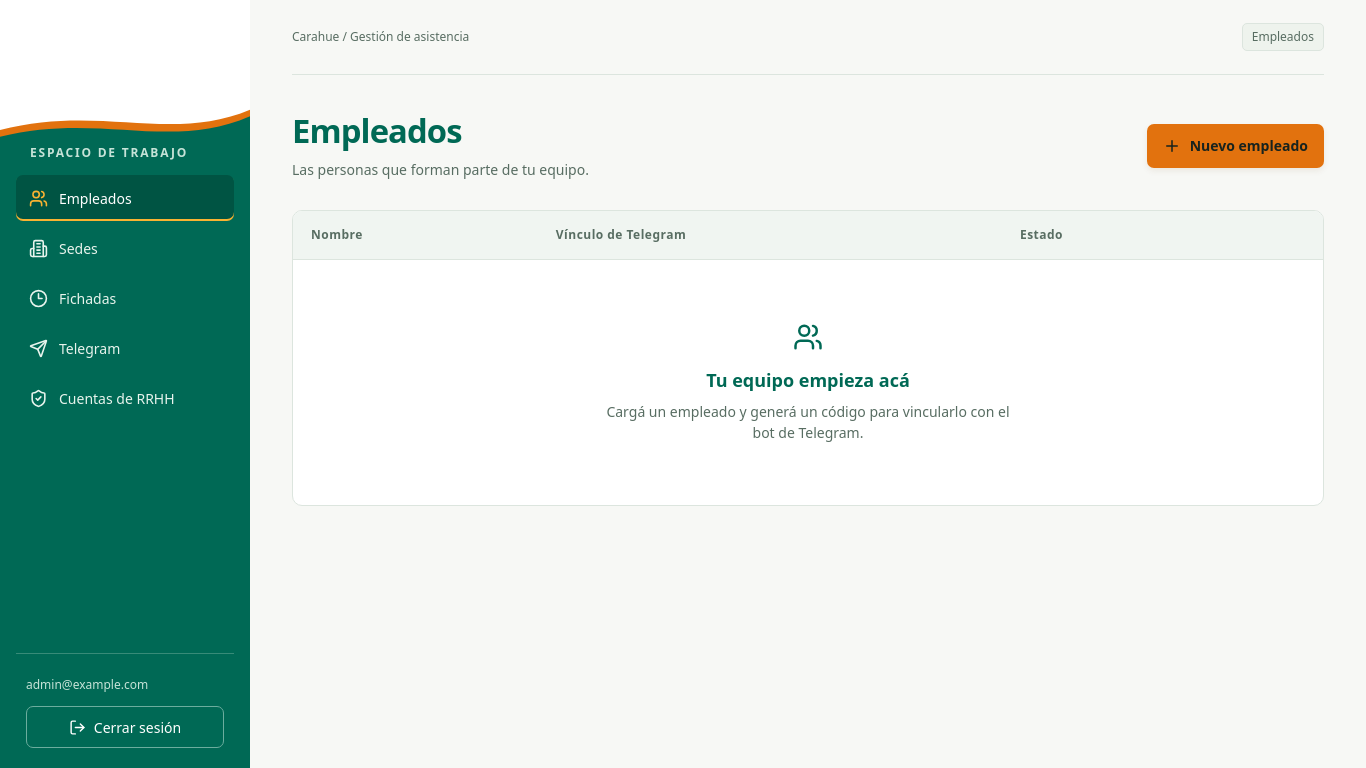
Test: shows the five administrative sections and saves an employee without a phone
Expected: the number of links is 5, [16,175,234,221]; [29,239,98,258]; [29,289,116,308]; [29,339,120,358]; [29,389,175,408]
Click the button "Nuevo empleado": coordinates (1235, 146) [1147,124,1324,168]
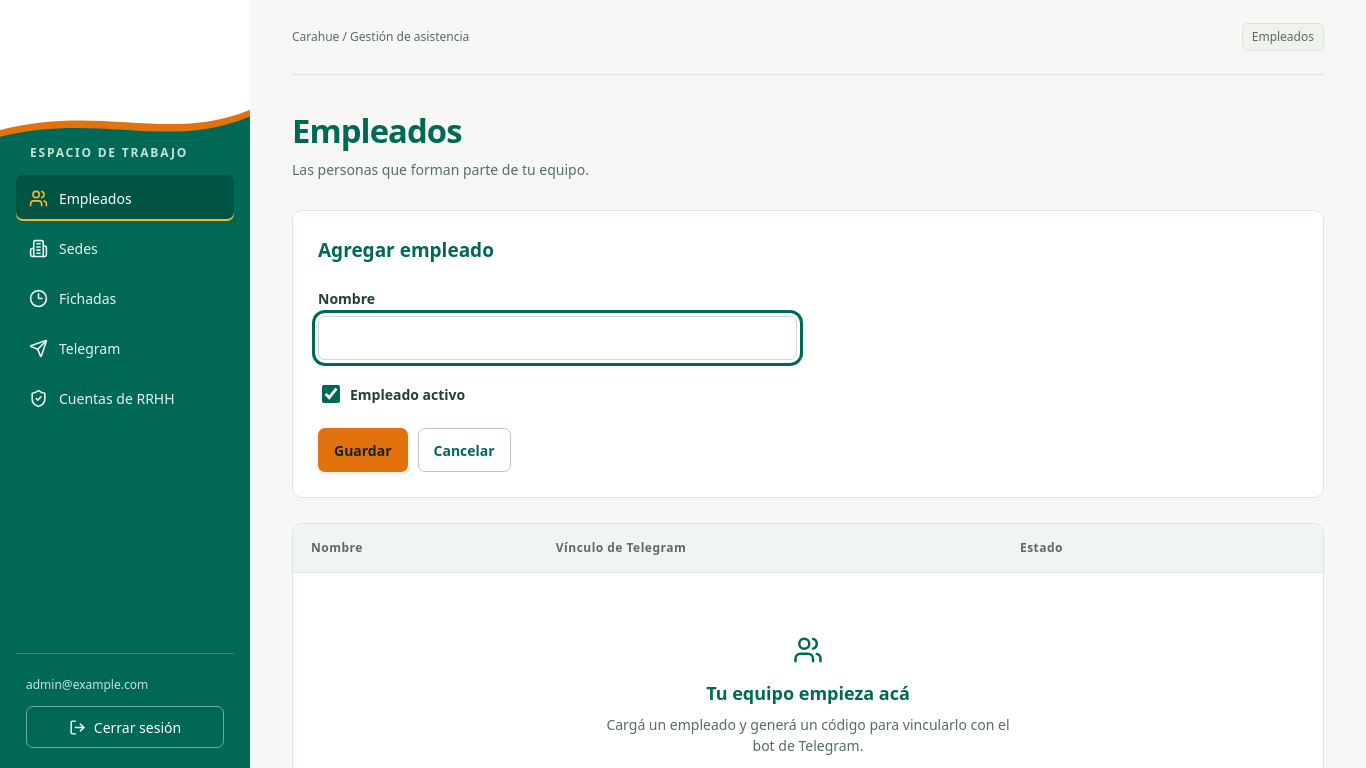
In the field labelled "Nombre": coordinates (558, 338) [318,316,797,360], type "Ana"
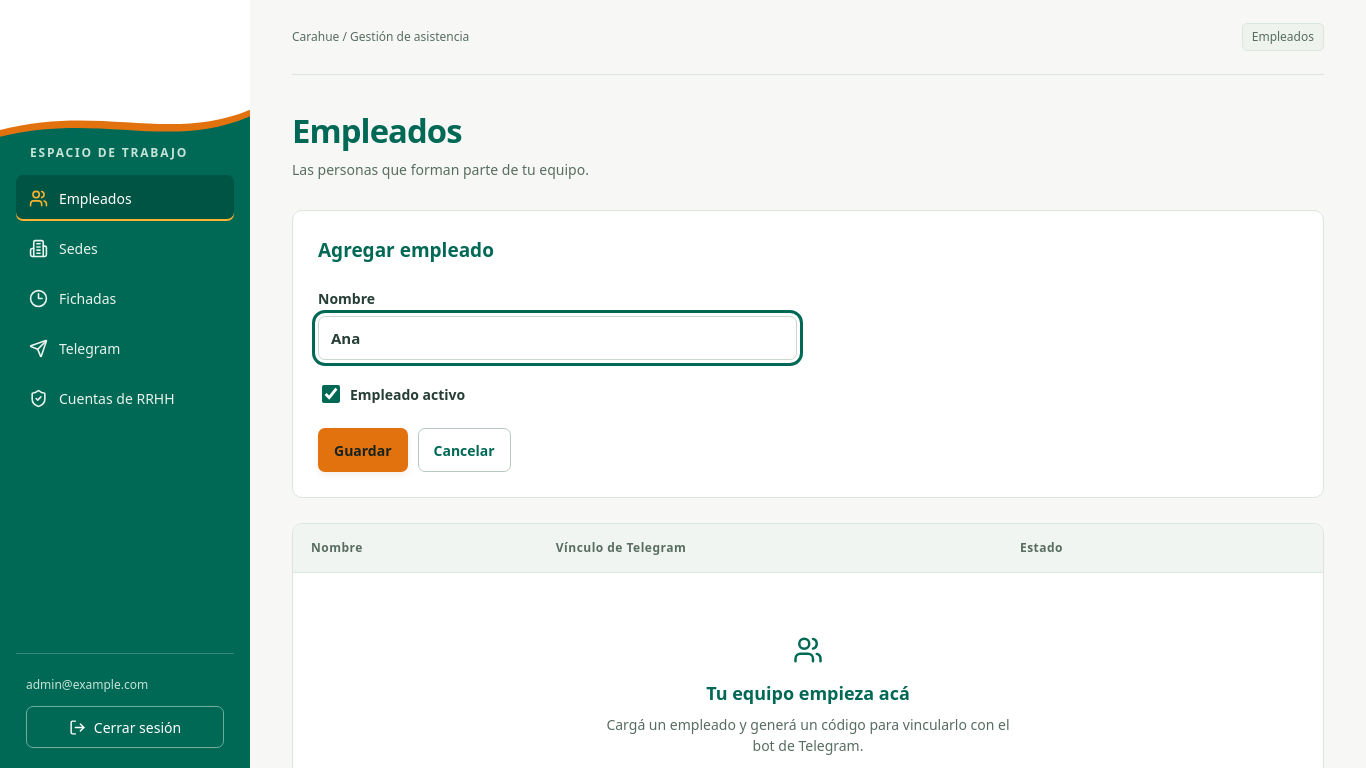
Click the button "Guardar": coordinates (363, 450) [318,428,408,472]
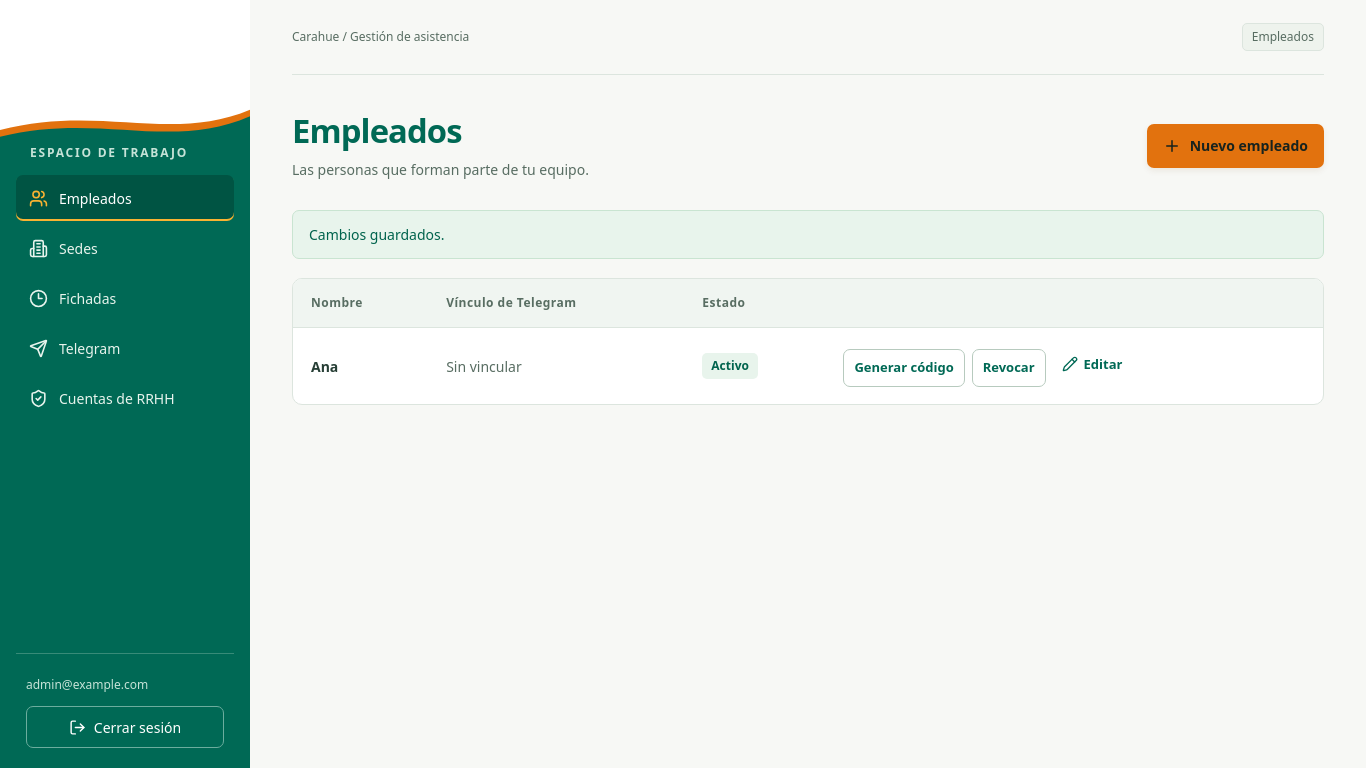
Expected: the cell "Ana" is shown, [293,328,428,404]
